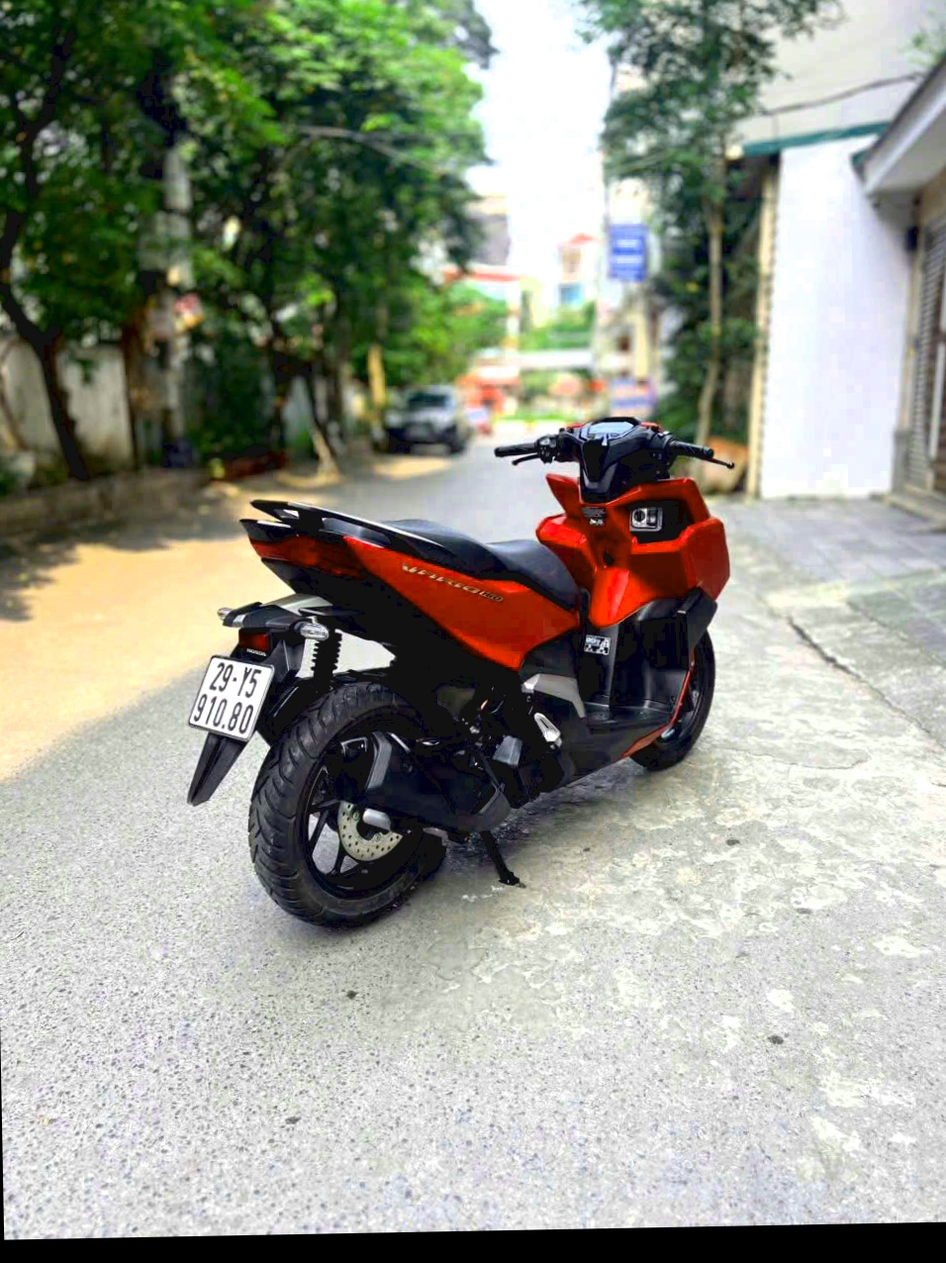Bien-so: (189, 651, 274, 744)
